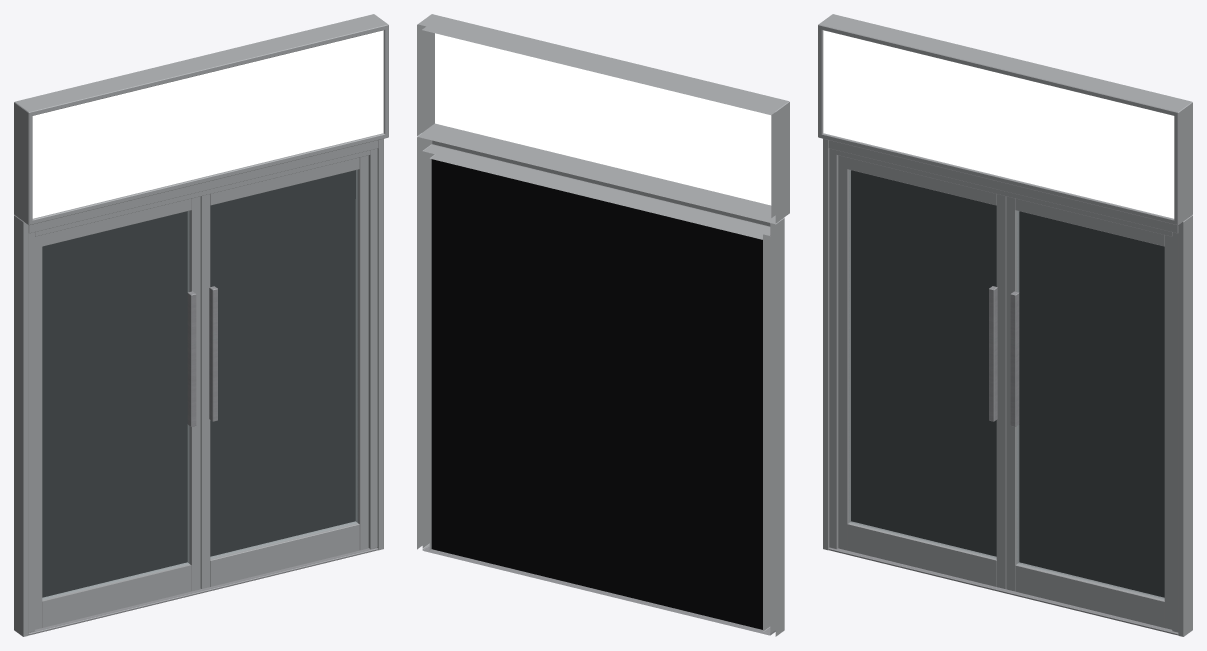
The model's file is gteki_shopfront_door_w2000.glb.
3 renders of one model, left to right at view 1: azimuth 30°, elevation 25°; view 2: azimuth 150°, elevation 25°; view 3: azimuth 330°, elevation 25°, orthographic.
Parts seen in each view (by area): view 1: VIS_glass, VIS_backing, VIS_frame, VIS_art, VIS_fascia; view 2: VIS_backing, VIS_art, VIS_frame, VIS_fascia; view 3: VIS_glass, VIS_backing, VIS_frame, VIS_art, VIS_fascia.
Part boxes in pixels (x1=…): VIS_glass: x1=42, y1=170, x2=357, y2=599; VIS_backing: x1=42, y1=170, x2=355, y2=597; VIS_frame: x1=14, y1=139, x2=383, y2=636; VIS_art: x1=32, y1=30, x2=383, y2=218; VIS_fascia: x1=14, y1=14, x2=388, y2=225; VIS_backing: x1=431, y1=159, x2=762, y2=629; VIS_art: x1=435, y1=33, x2=771, y2=205; VIS_frame: x1=417, y1=133, x2=784, y2=636; VIS_fascia: x1=417, y1=14, x2=789, y2=223; VIS_glass: x1=849, y1=170, x2=1164, y2=599; VIS_backing: x1=851, y1=170, x2=1164, y2=597; VIS_frame: x1=823, y1=139, x2=1192, y2=636; VIS_art: x1=823, y1=30, x2=1174, y2=218; VIS_fascia: x1=818, y1=14, x2=1192, y2=225.
Bounding box in the file's own units: 2 × 2.8 × 0.14.
5 materials, 1 textured.
